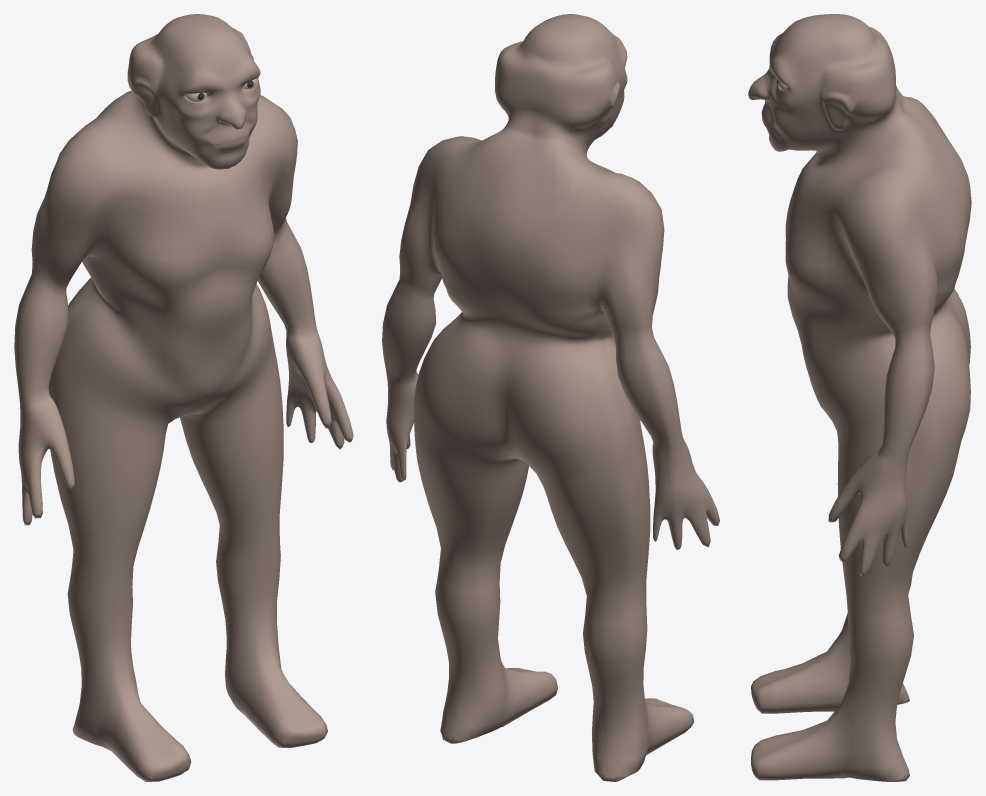
The model's file is old man jenkins.fbx.
The picture shows the model from 3 angles, left to right: view 1: azimuth 30°, elevation 25°; view 2: azimuth 150°, elevation 25°; view 3: azimuth 270°, elevation 25°; orthographic projection.
Parts seen in each view (by area): view 1: polySurface1; view 2: polySurface1; view 3: polySurface1.
Part boxes in pixels (box(x1,y1,x2,y2)): polySurface1: box(14, 14, 353, 781); polySurface1: box(382, 14, 719, 781); polySurface1: box(748, 14, 971, 781).
Bounding box in the file's own units: 84.78 × 181 × 50.96.
